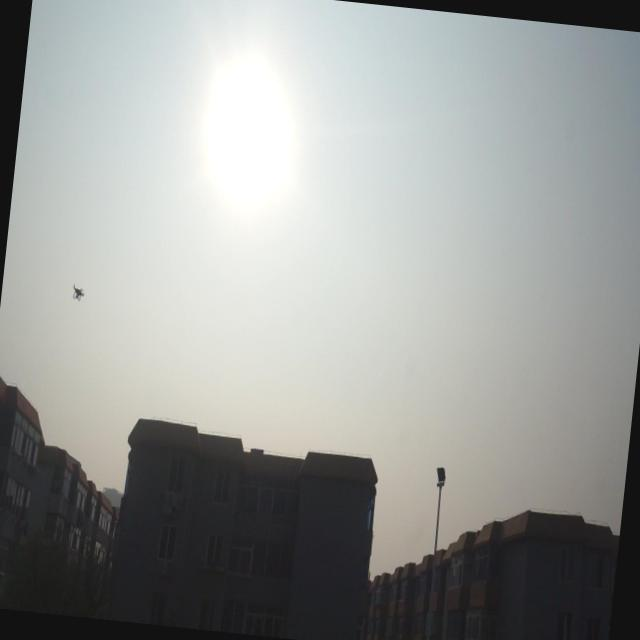drone: (70, 282, 86, 304)
